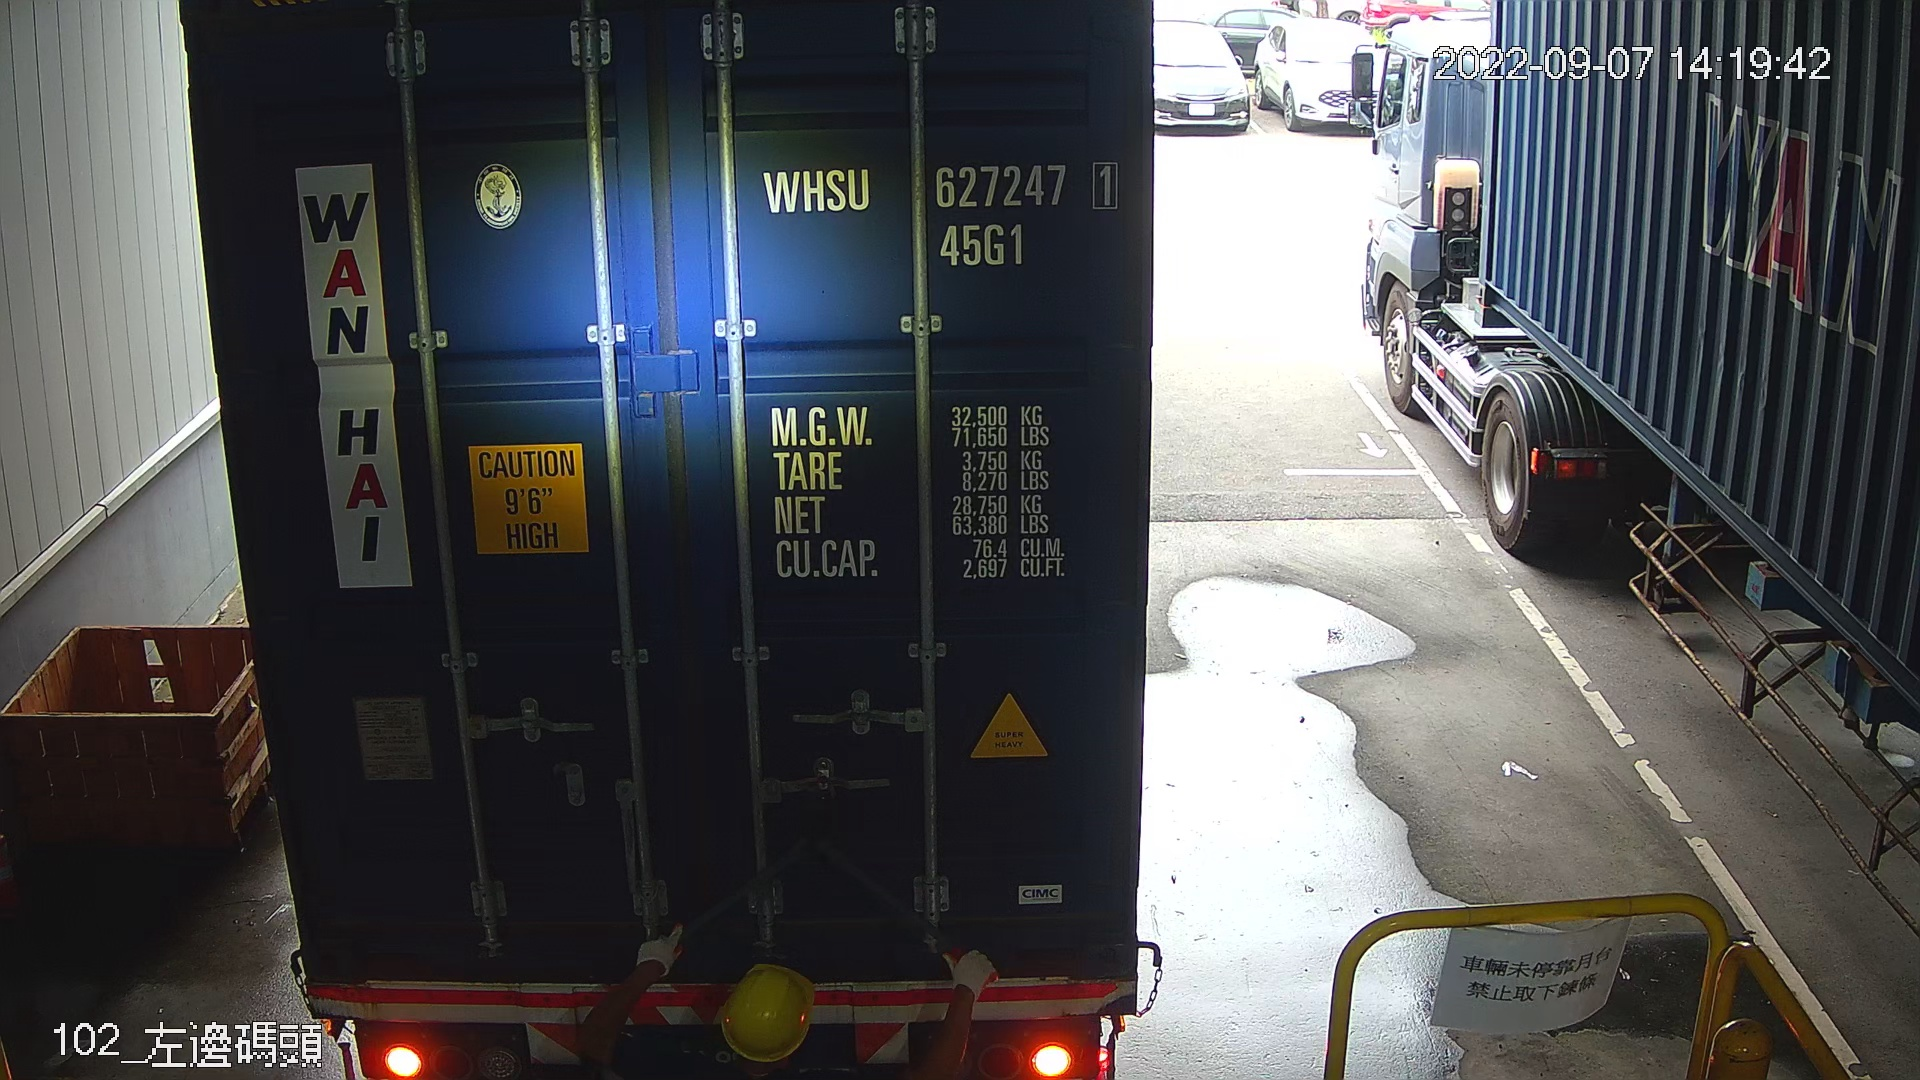container: (750, 146, 1129, 280)
